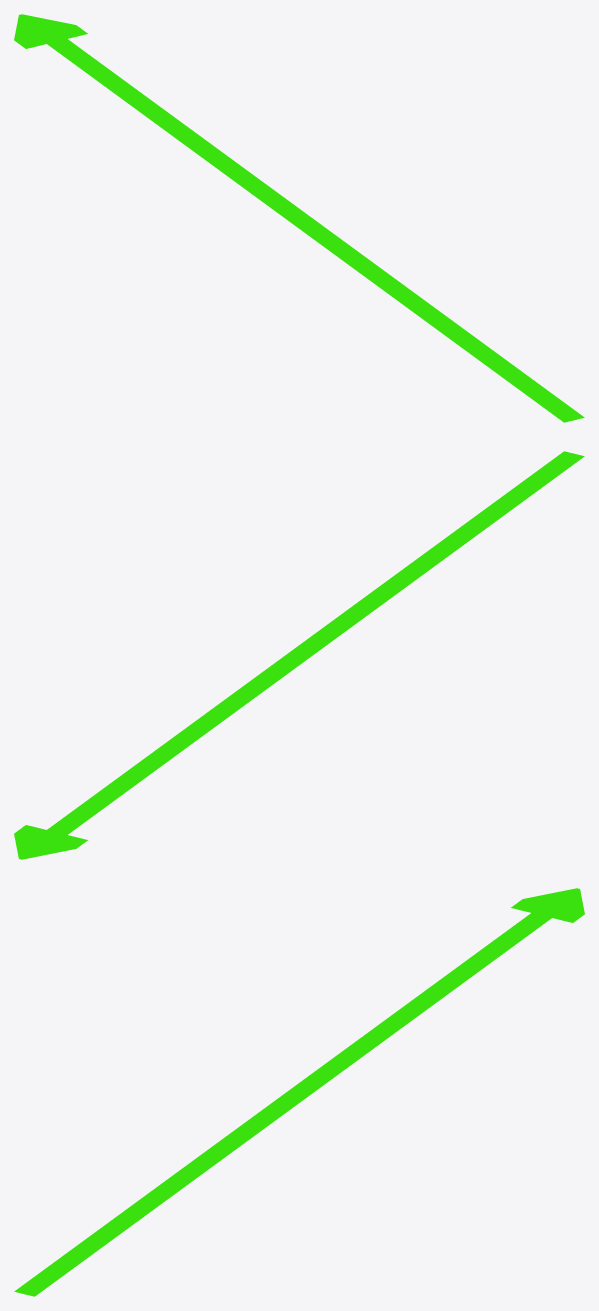
Rendered from guide.fbx.
The picture shows the model from 3 angles, top to bottom: view 1: azimuth 30°, elevation 25°; view 2: azimuth 150°, elevation 25°; view 3: azimuth 330°, elevation 25°; orthographic projection.
Parts seen in each view (by area): view 1: grid3; view 2: grid3; view 3: grid3.
Boxes of the visible parts, left/top/right/bottom form: grid3: left=14, top=14, right=584, bottom=422; grid3: left=14, top=451, right=584, bottom=859; grid3: left=14, top=888, right=584, bottom=1296.
Bounding box in the file's own units: 3.21 × 0 × 49.39.
